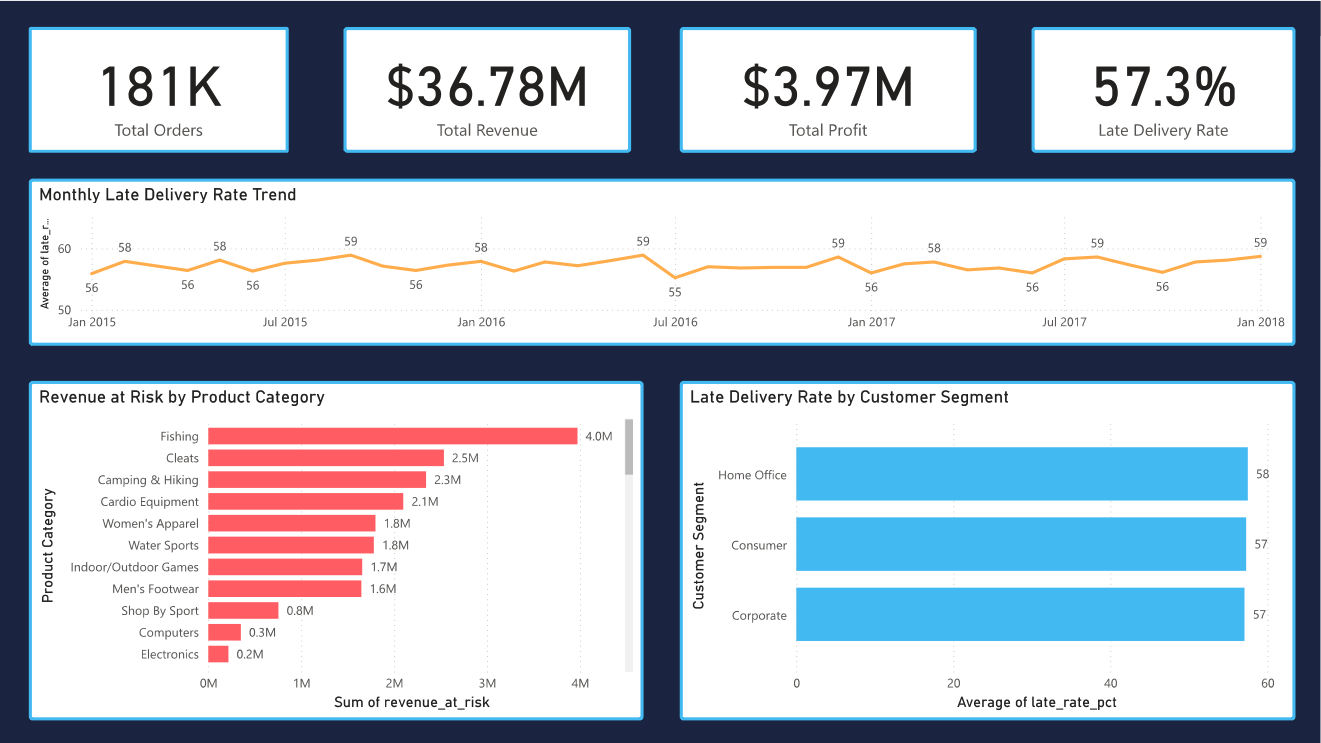

The page's visual inventory and layout, read from the dashboard file:
{"tool":"powerbi","page":{"name":"Delay Analysis","canvas":[1280,720],"ordinal":1},"visuals":[{"type":"card","fields":{"Values":["export_customer_segment.Total Orders #"]},"box":[27.8,25.5,252.3,121.5],"z":0},{"type":"card","fields":{"Values":["export_customer_segment.Total Revenue $"]},"box":[333.3,25.5,278.9,121.5],"z":1000},{"type":"card","fields":{"Values":["export_customer_segment.Total Profit $"]},"box":[658.5,25.5,288.2,121.5],"z":2000},{"type":"card","fields":{"Values":["export_customer_segment.Late Delivery Rate"]},"box":[999.9,25.5,255.8,121.5],"z":3000},{"type":"lineChart","title":"Monthly Late Delivery Rate Trend","fields":{"Category":["export_monthly_revenue.year_month.Variation.Date Hierarchy.Year"],"Y":["Avg(export_monthly_revenue.late_rate_pct)"]},"box":[27.8,172.4,1227.9,162],"z":4000},{"type":"clusteredBarChart","title":"Late Delivery Rate by Customer Segment","fields":{"Category":["export_customer_segment.segment"],"Y":["Avg(export_customer_segment.late_rate_pct)"]},"box":[658.5,368,597.2,328.7],"z":5000},{"type":"clusteredBarChart","title":"Revenue at Risk by Product Category","fields":{"Category":["export_product_risk.category_name"],"Y":["Sum(export_product_risk.revenue_at_risk)"]},"box":[27.8,368,596,328.7],"z":6000}]}

Visuals, with their boxes in screenshot pixels (x1, y1, x2, y2), scaled from the page's 1280x720 canvas onto the 1321x743 screenshot:
card - export_customer_segment.Total Orders #: <bbox>29, 26, 289, 152</bbox>
card - export_customer_segment.Total Revenue $: <bbox>344, 26, 632, 152</bbox>
card - export_customer_segment.Total Profit $: <bbox>680, 26, 977, 152</bbox>
card - export_customer_segment.Late Delivery Rate: <bbox>1032, 26, 1296, 152</bbox>
"Monthly Late Delivery Rate Trend" lineChart: <bbox>29, 178, 1296, 345</bbox>
"Late Delivery Rate by Customer Segment" clusteredBarChart: <bbox>680, 380, 1296, 719</bbox>
"Revenue at Risk by Product Category" clusteredBarChart: <bbox>29, 380, 644, 719</bbox>
